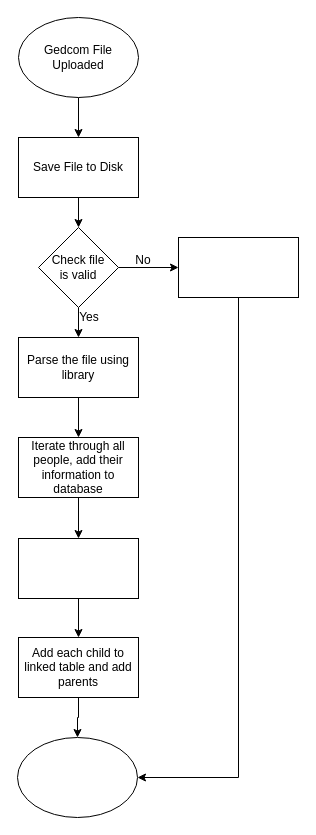
This 316x835 diagram has some shape labels left out. Each missing label, with the box of its shape:
Finished: (16, 736, 138, 818)
Iterate through all families, add their information to database: (18, 538, 138, 598)
Throw error: File invalid: (178, 236, 298, 298)
